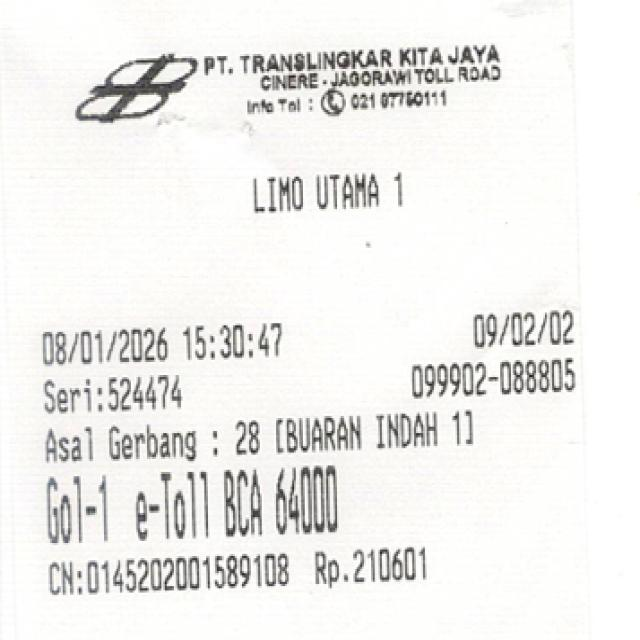date: (33, 326, 291, 357)
store: (200, 49, 507, 85)
total: (270, 465, 368, 536)
